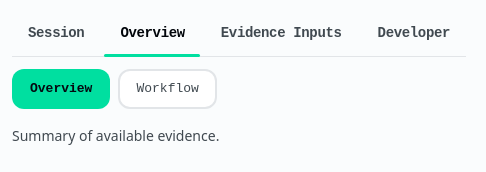
WorkspaceStageNav › omits the section row for a stage that has only one section
Click the tab with test id "stage-developer" at (414, 34), box [362,12,466,56]
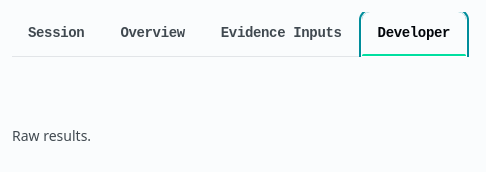
Check: the text "Raw results." is shown, box [12,126,91,145]
